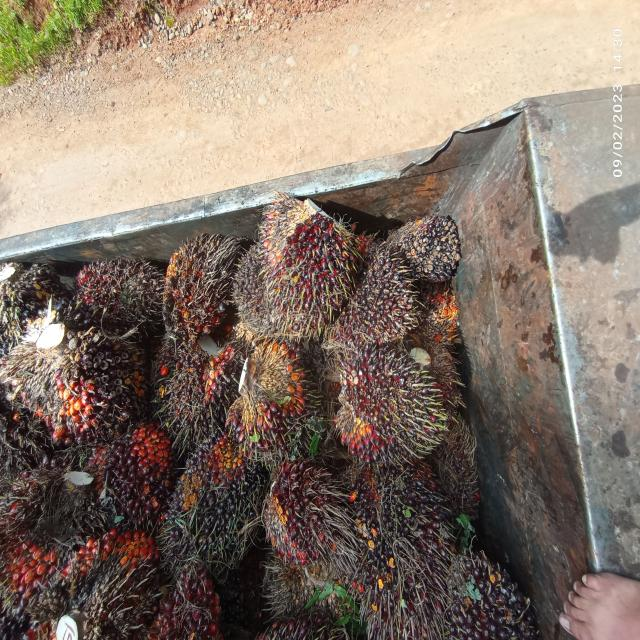fraksi 00: (9, 306, 144, 456), (157, 438, 269, 572), (367, 471, 459, 633), (422, 527, 530, 640), (338, 238, 426, 356), (76, 247, 158, 331), (395, 200, 472, 282)
fraksi 1: (214, 308, 344, 476), (254, 182, 360, 350), (255, 458, 366, 596), (334, 346, 447, 474), (91, 422, 173, 526), (161, 340, 246, 427), (154, 566, 218, 640)
fraksi 4: (61, 527, 171, 640), (158, 224, 247, 348)
